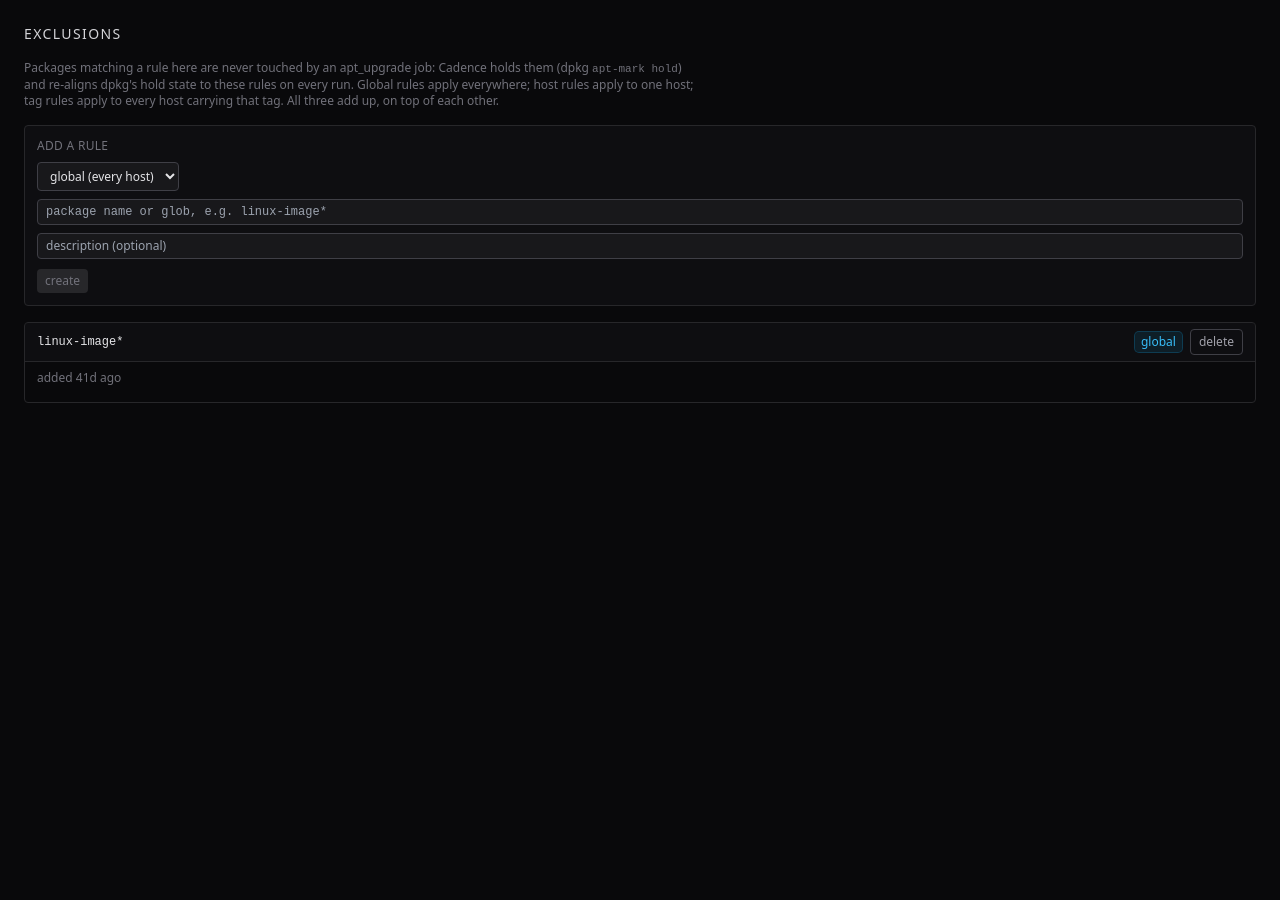
Test: ExclusionsView › deletes a rule after confirmation
This screenshot has width=1280, height=900.
Check: the text "linux-image*" is shown, box [37,334,123,350]
Click the button "delete" at [1216, 342], box [1190,329,1243,355]
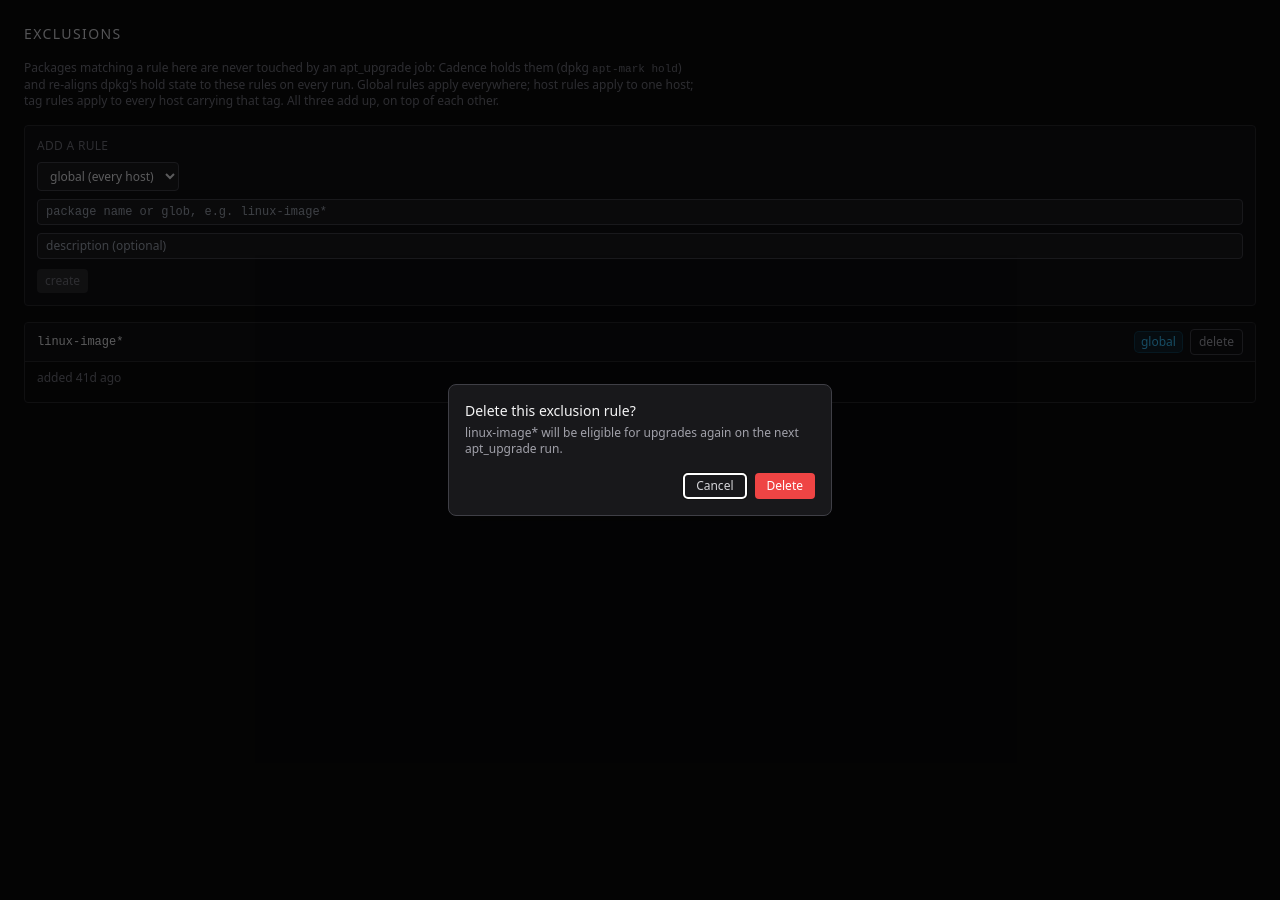
Click the button "Delete" at [785, 486], box [754,473,815,499]
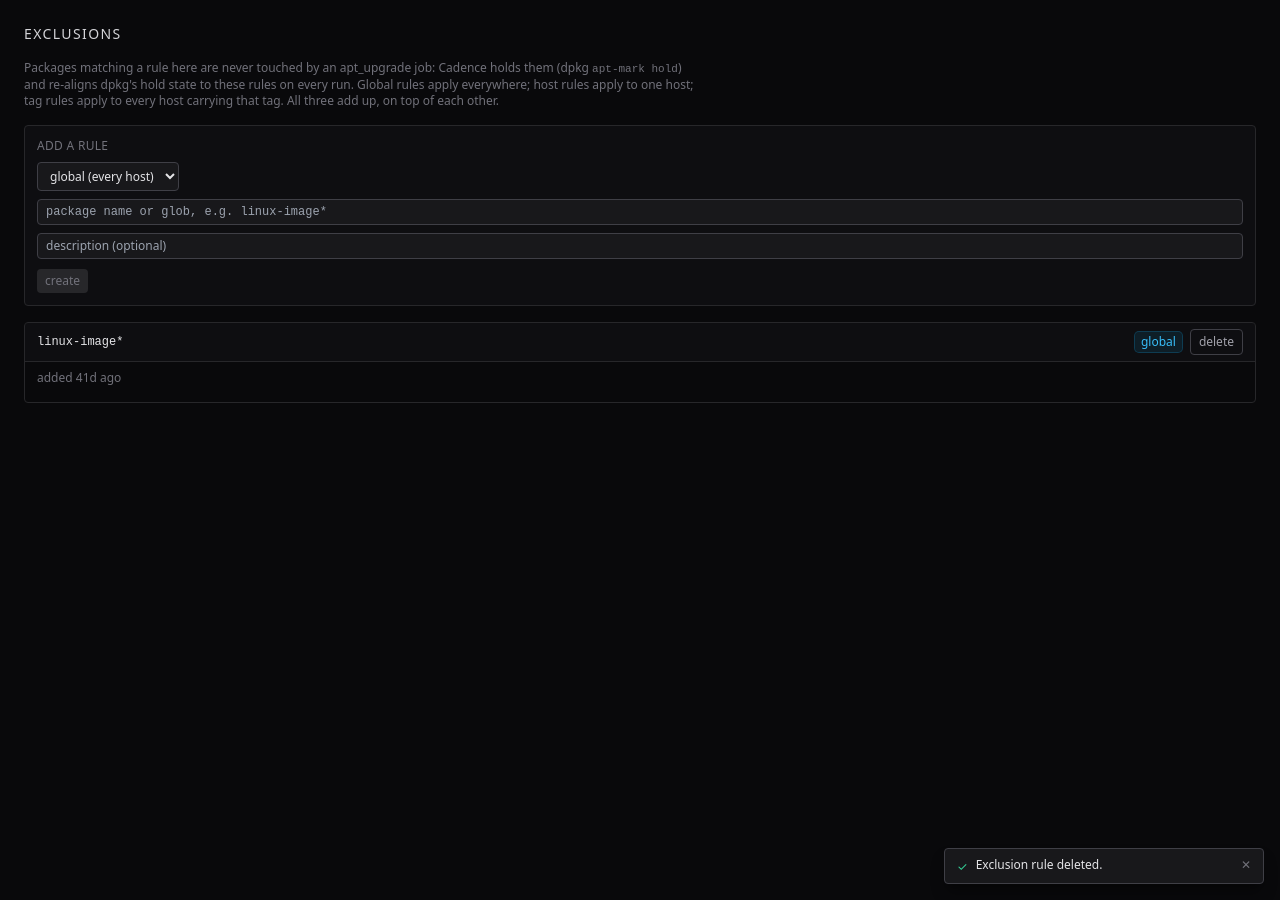
Check: the text "Exclusion rule deleted." is shown, box [976,856,1102,873]
